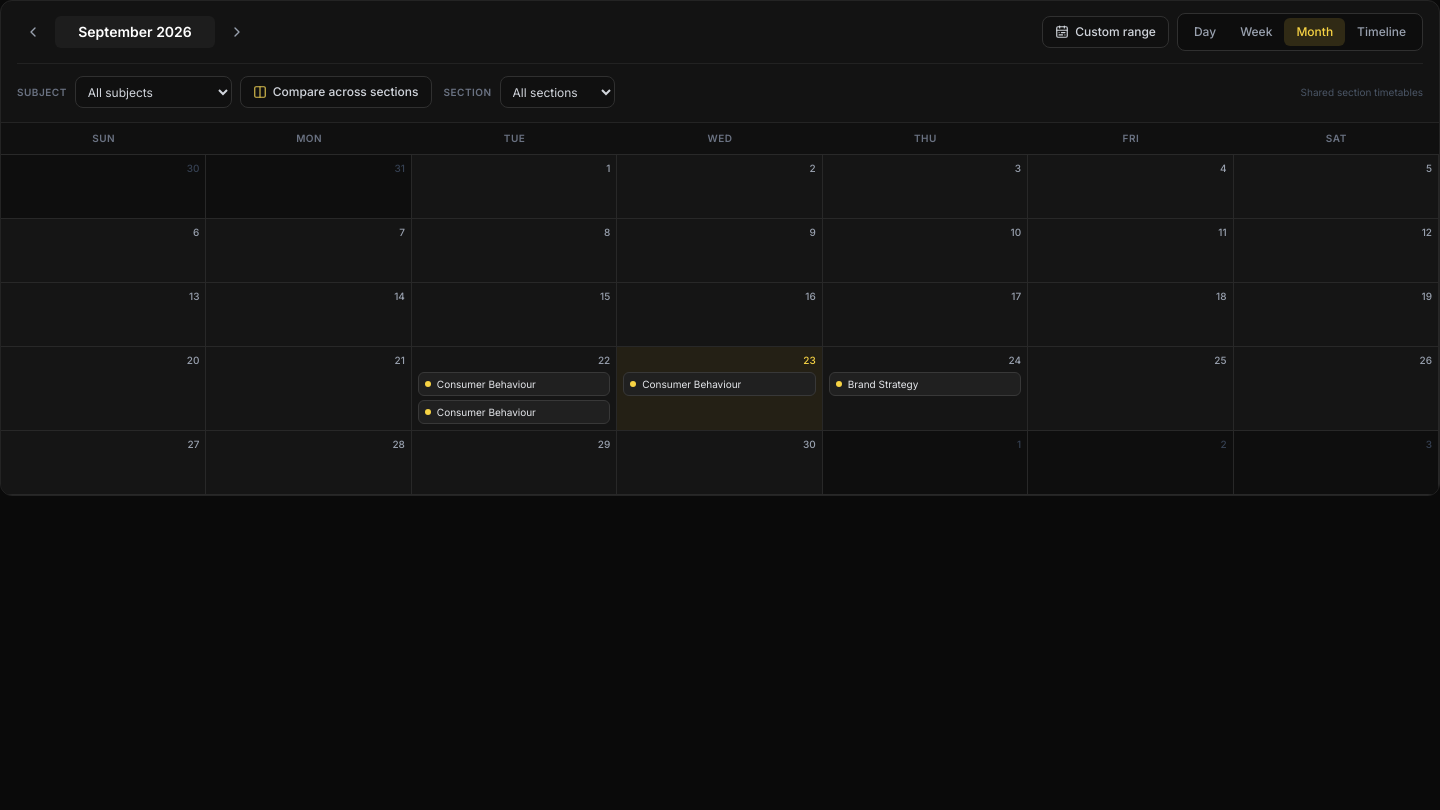
Test: AgendaList Integration with CrossSectionComparison › opens CrossSectionComparison modal upon clicking the Compare button
The image size is (1440, 810).
Click the button "Compare across sections".
click(336, 92)  # box [240,76,432,108]
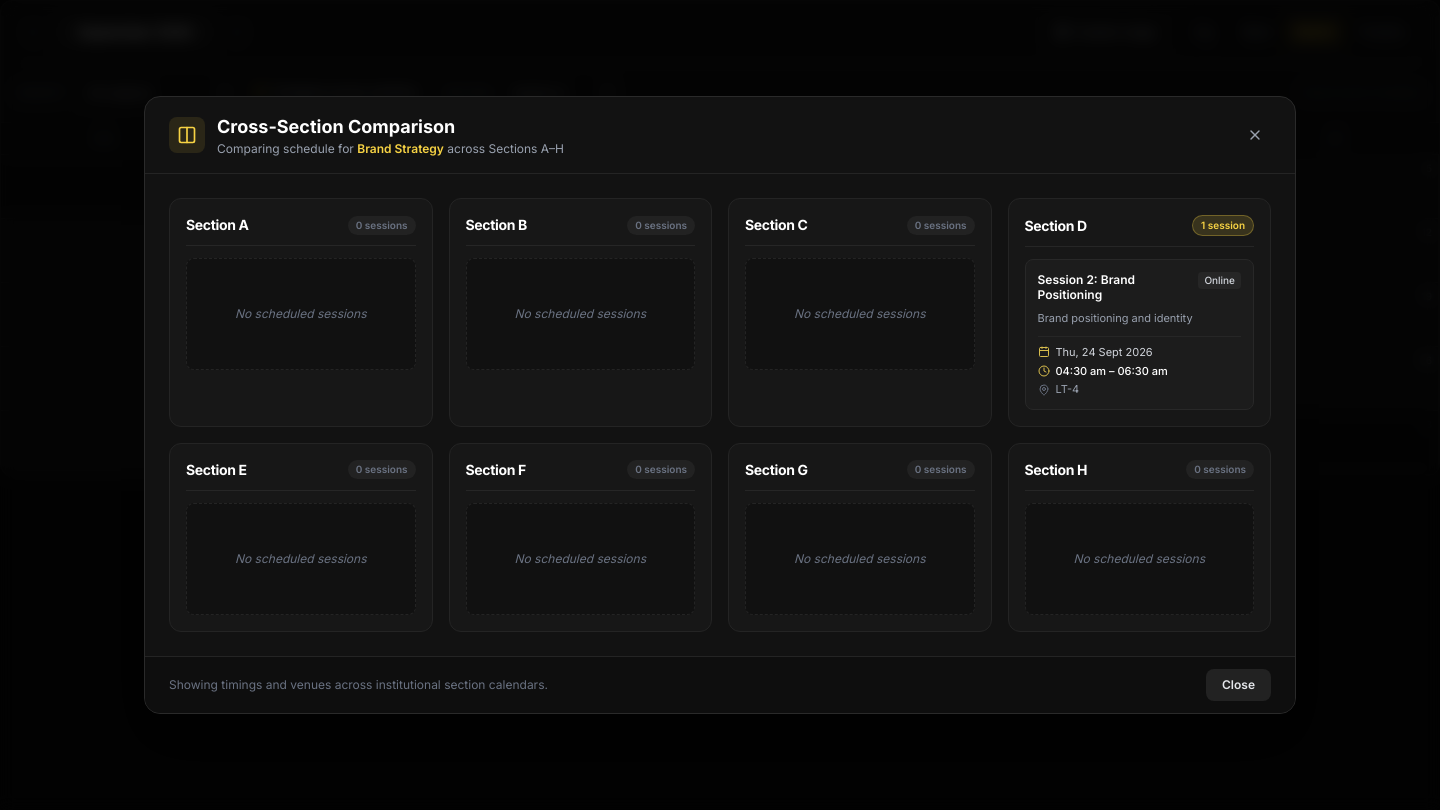
Expected: the dialog is shown
Expected: the heading "Cross-Section Comparison" is shown, [217,116,455,137]
